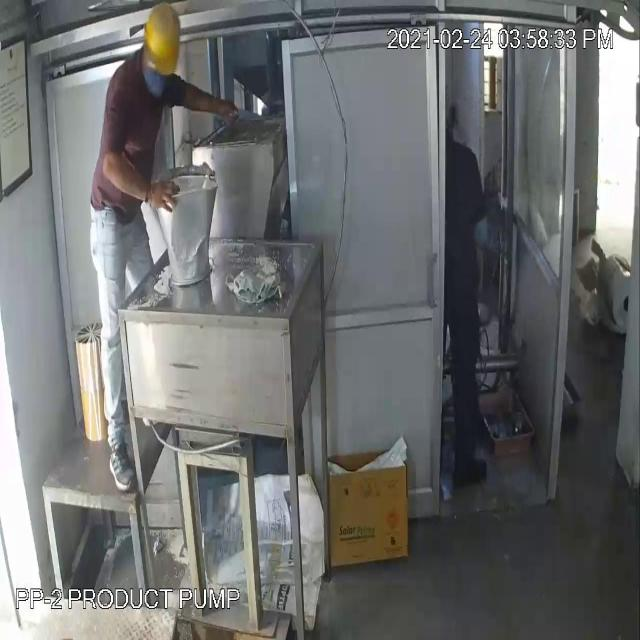helmet: (140, 1, 182, 79)
